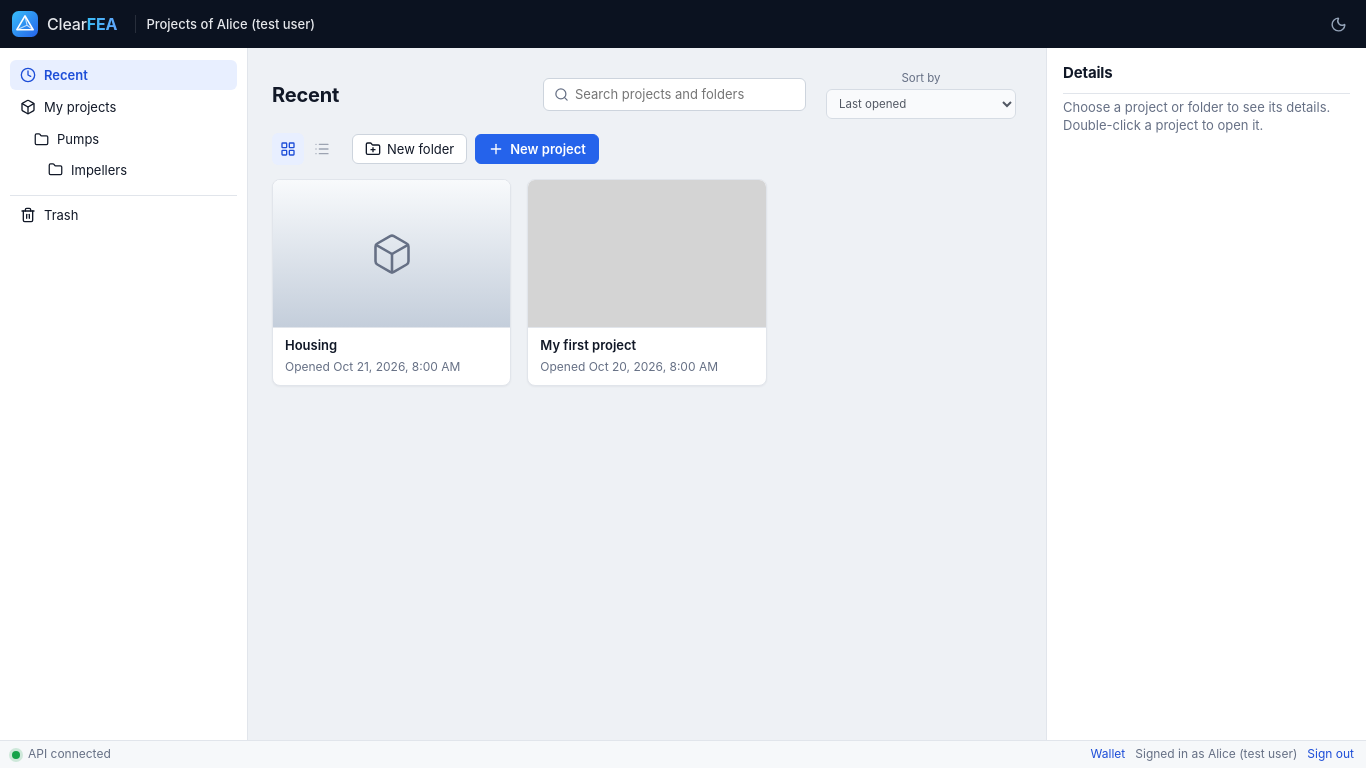
Test: the projects home › makes a project in the folder on show and opens it
Click the button "Pumps" at coordinates (124, 140), box left=10, top=124, right=237, bottom=155
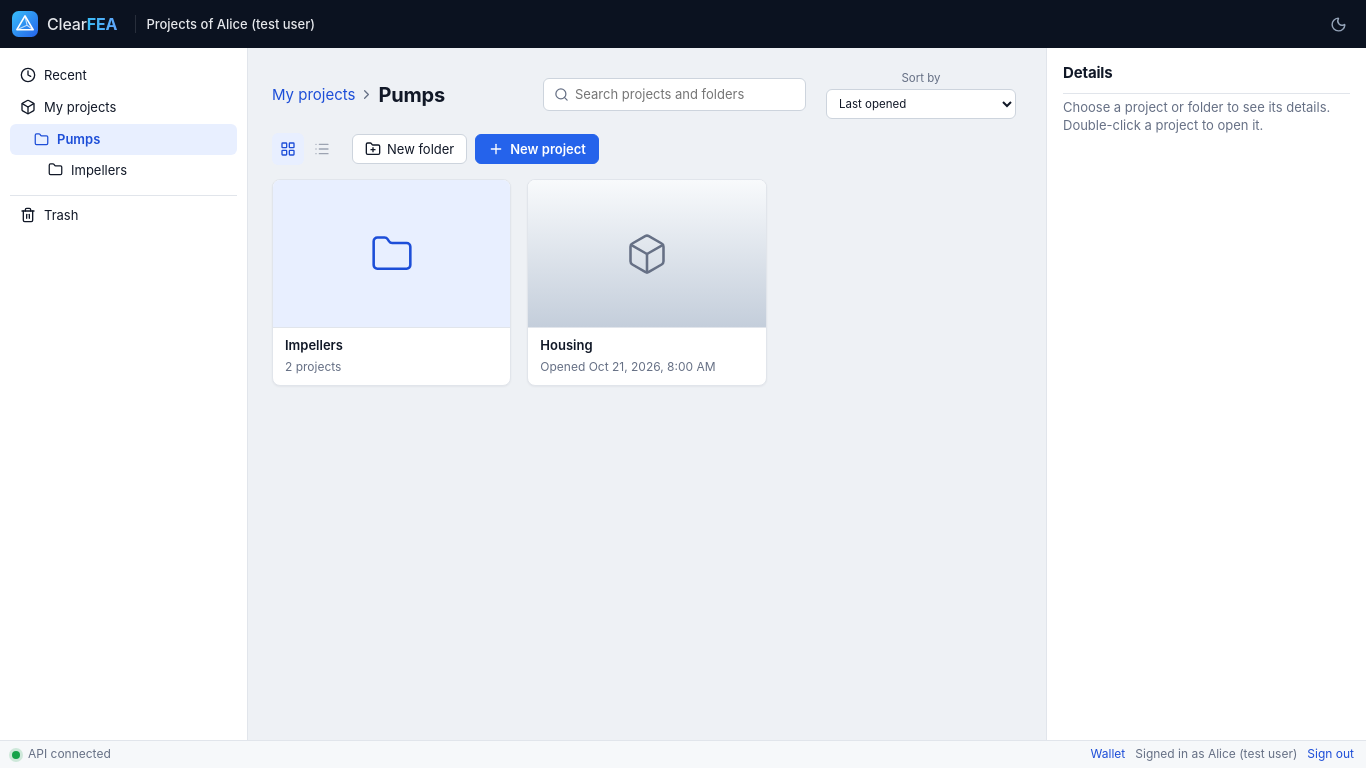
Click the button "New project" at coordinates (537, 149), box left=475, top=134, right=599, bottom=164
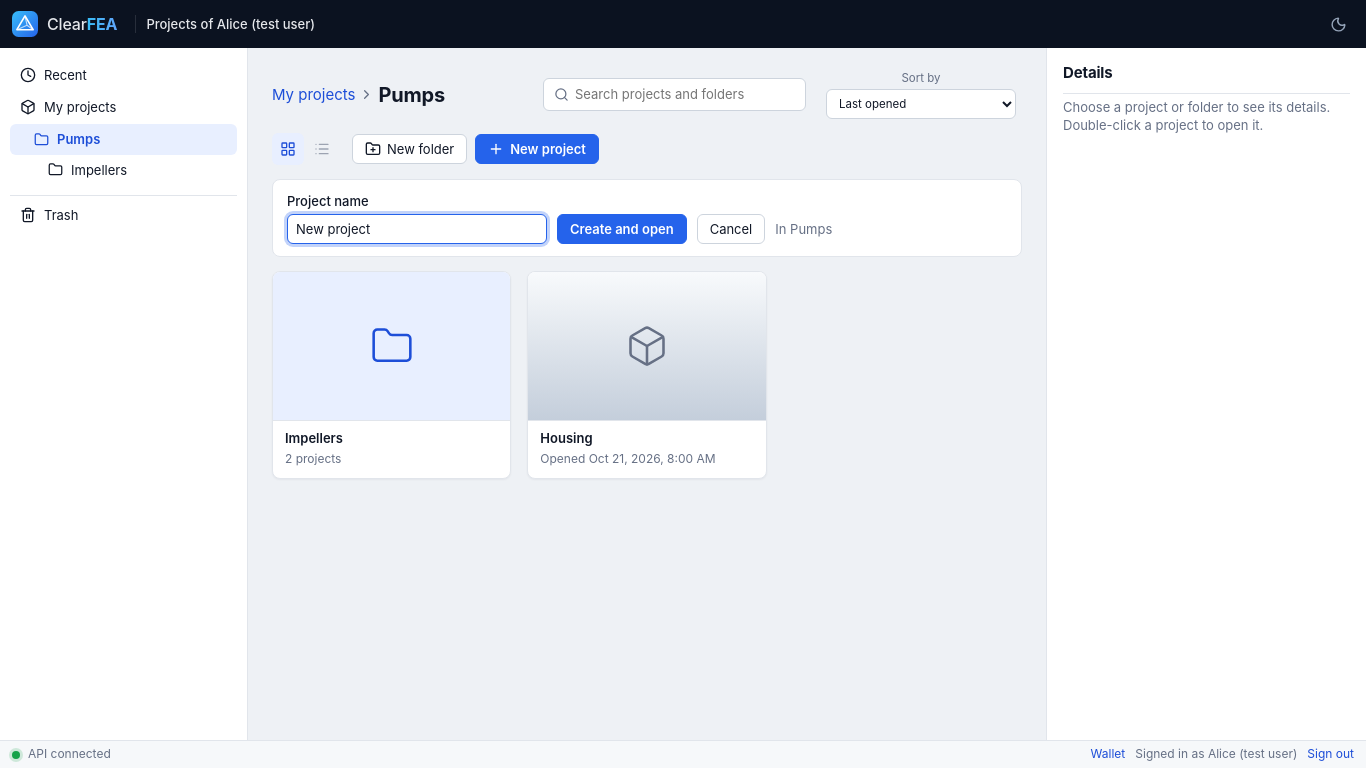
Replace the text in the field labelled "Project name" with "Valve body" at coordinates (417, 229), box left=287, top=214, right=547, bottom=244
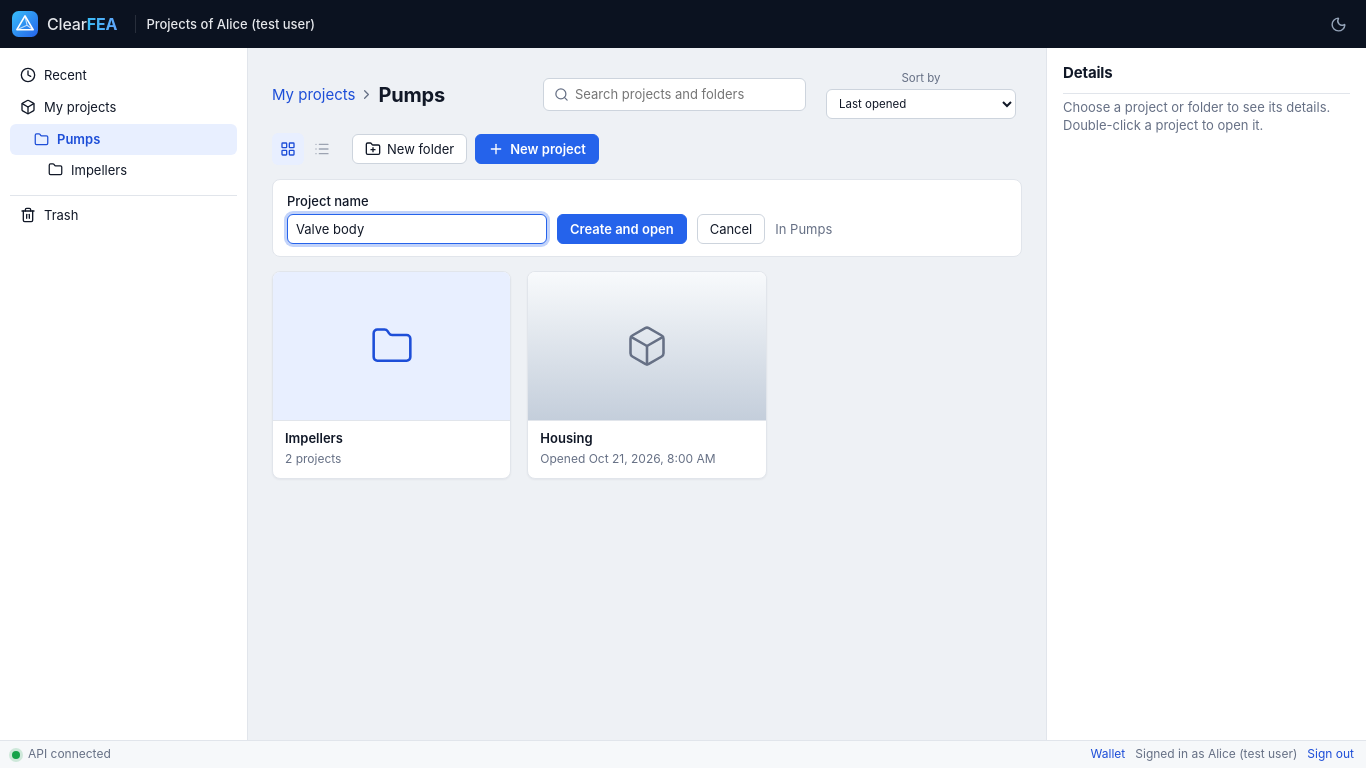
Click the button "Create and open" at coordinates (622, 229), box left=557, top=214, right=687, bottom=244
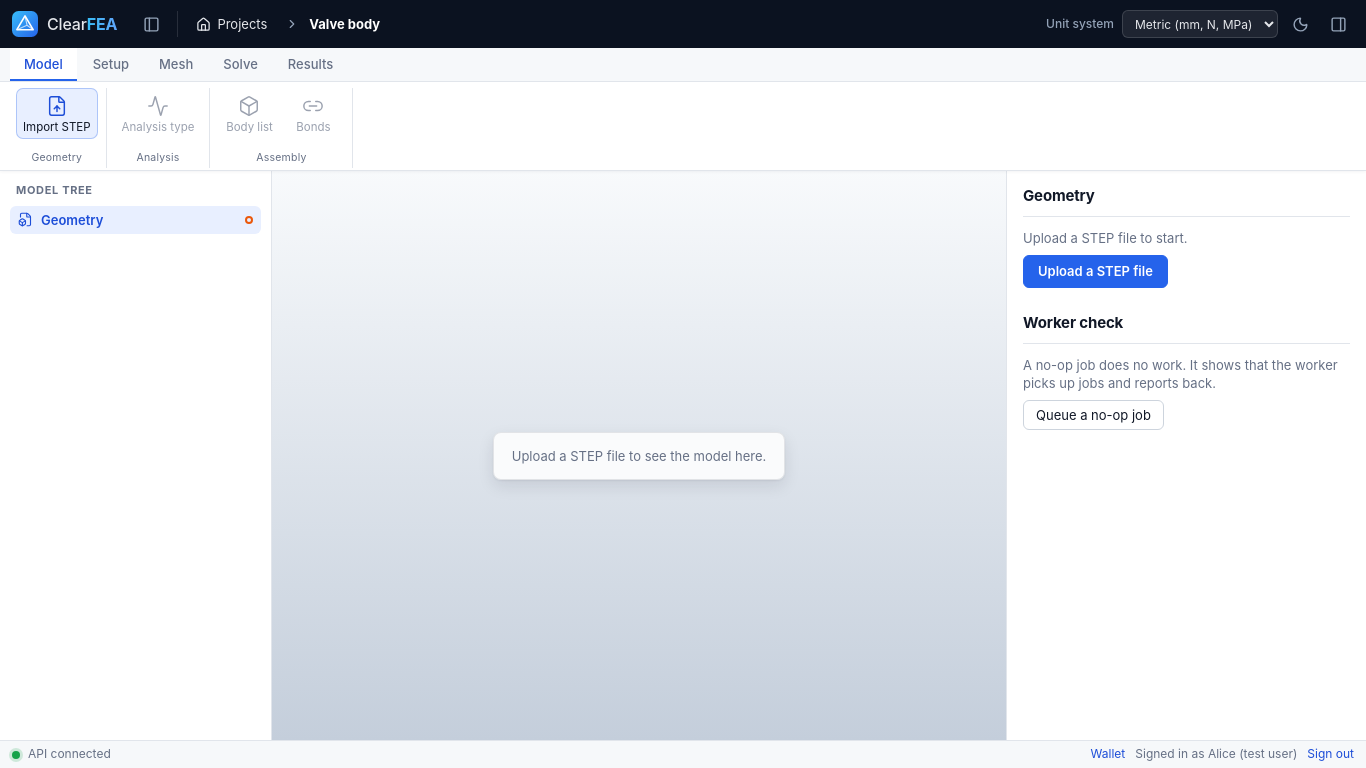
Now the navigation bar named "Simulation tree" is shown, box left=0, top=171, right=272, bottom=740
